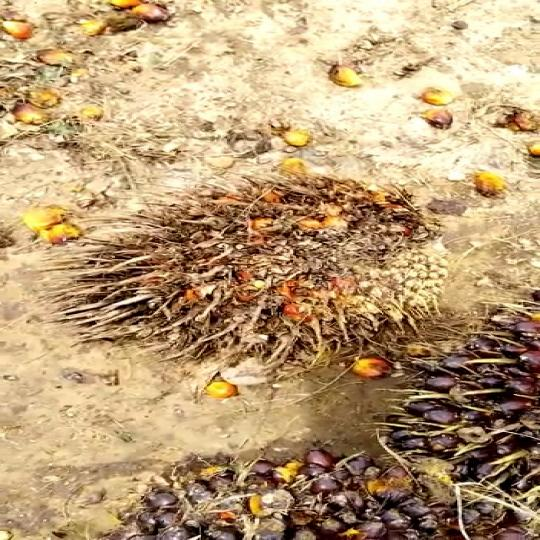terlalu masak: (56, 159, 470, 391)
